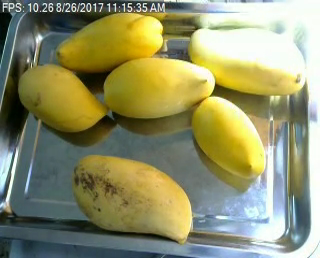Mango: (73, 154, 193, 243), (188, 26, 306, 95), (105, 57, 215, 115), (57, 11, 163, 71), (17, 63, 109, 132), (194, 97, 265, 179)
